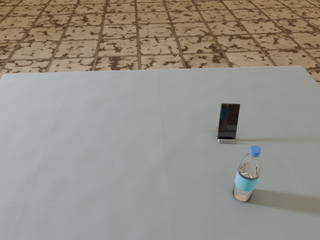bottle: (232, 146, 261, 201)
phone: (217, 103, 240, 139)
